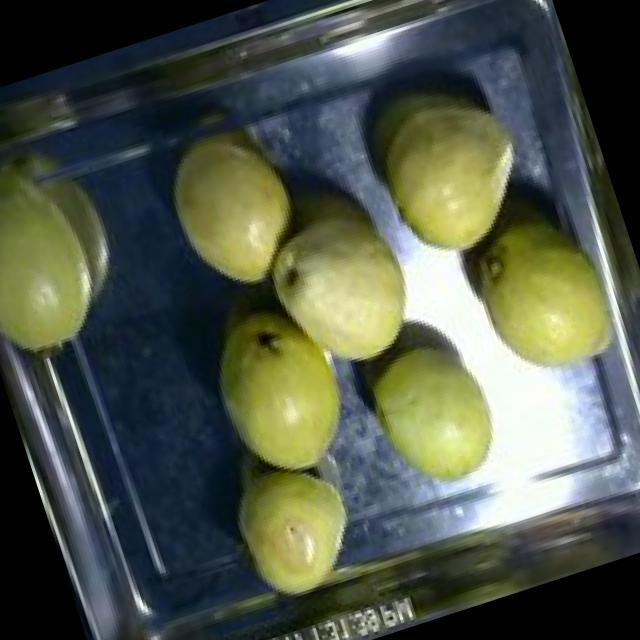Fruit: (336, 47, 560, 286), (231, 152, 447, 398), (435, 166, 640, 411), (186, 280, 378, 500), (341, 309, 530, 515), (0, 115, 142, 379), (147, 109, 327, 312), (215, 442, 382, 616)
